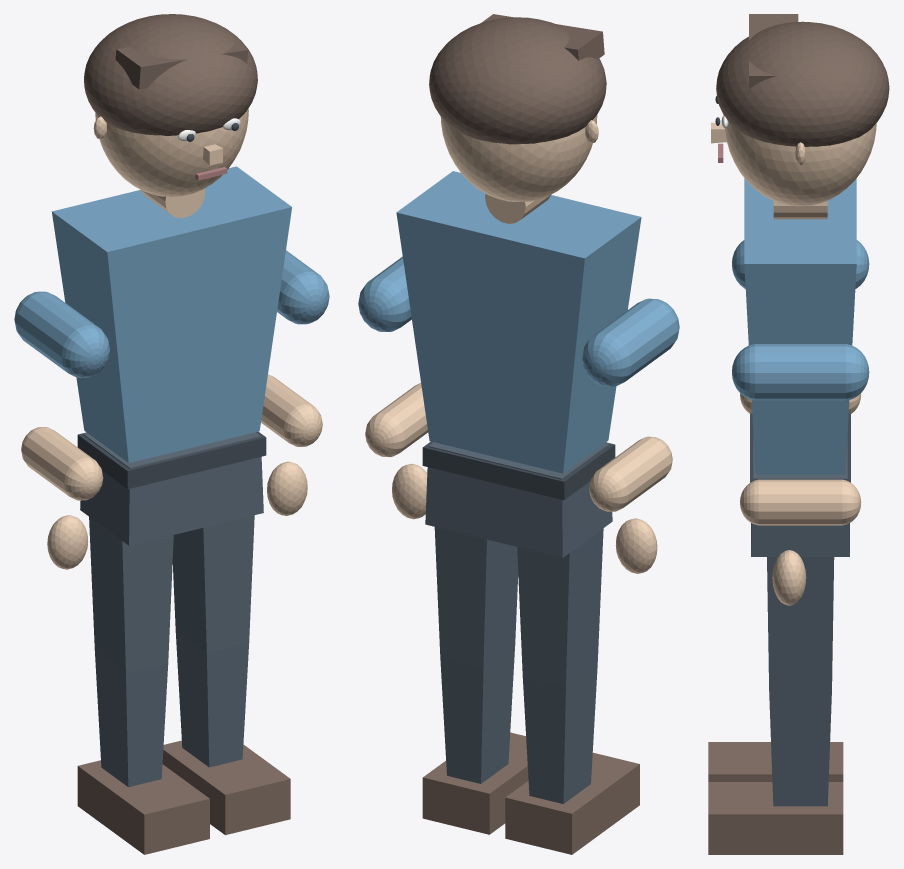
File: npc_male.glb
3 views of the same model, side by side, from view 1: azimuth 30°, elevation 25°; view 2: azimuth 150°, elevation 25°; view 3: azimuth 270°, elevation 25° (orthographic).
Parts seen in each view (by area): view 1: Torso, Hair, Hips, Thigh_L, Thigh_R, Shoe_L, Calf_L, Calf_R, Shoe_R, Head, Arm_L_Mesh, Belt (+7 smaller); view 2: Torso, Hair, Hips, Thigh_L, Thigh_R, Calf_R, Calf_L, Shoe_L, Head, Shoe_R, Arm_L_Mesh, Belt (+7 smaller); view 3: Torso, Hair, Shoe_R, Thigh_R, Arm_R_Mesh, Head, Calf_R, Forearm_R_Mesh, Hips, Shoe_L, Hand_R_Mesh, HairFront (+3 smaller).
Part boxes in pixels (<box>): Torso: <box>51,166,291,462</box>; Hair: <box>84,14,257,135</box>; Hips: <box>80,432,263,545</box>; Thigh_L: <box>89,517,173,672</box>; Thigh_R: <box>172,515,254,652</box>; Shoe_L: <box>77,760,209,854</box>; Calf_L: <box>95,650,168,786</box>; Calf_R: <box>175,631,248,767</box>; Shoe_R: <box>162,740,290,835</box>; Head: <box>95,108,248,196</box>; Arm_L_Mesh: <box>14,291,109,377</box>; Belt: <box>77,431,266,489</box>; Torso: <box>396,171,641,473</box>; Hair: <box>429,17,606,144</box>; Hips: <box>425,442,612,557</box>; Thigh_L: <box>517,528,603,687</box>; Thigh_R: <box>434,527,518,667</box>; Calf_R: <box>440,644,515,783</box>; Calf_L: <box>522,665,597,803</box>; Shoe_L: <box>505,752,639,854</box>; Head: <box>440,115,597,201</box>; Shoe_R: <box>422,732,528,834</box>; Arm_L_Mesh: <box>582,298,679,386</box>; Belt: <box>422,441,615,500</box>; Torso: <box>744,178,856,474</box>; Hair: <box>716,21,889,146</box>; Shoe_R: <box>708,782,843,854</box>; Thigh_R: <box>767,557,834,690</box>; Arm_R_Mesh: <box>732,344,869,400</box>; Head: <box>725,122,876,206</box>; Calf_R: <box>769,690,831,806</box>; Forearm_R_Mesh: <box>740,479,861,525</box>; Hips: <box>751,434,849,556</box>; Shoe_L: <box>708,742,843,781</box>; Hand_R_Mesh: <box>772,550,806,605</box>; HairFront: <box>749,14,798,88</box>.
Bounding box in the file's own units: 0.6909 × 1.93 × 0.403.
